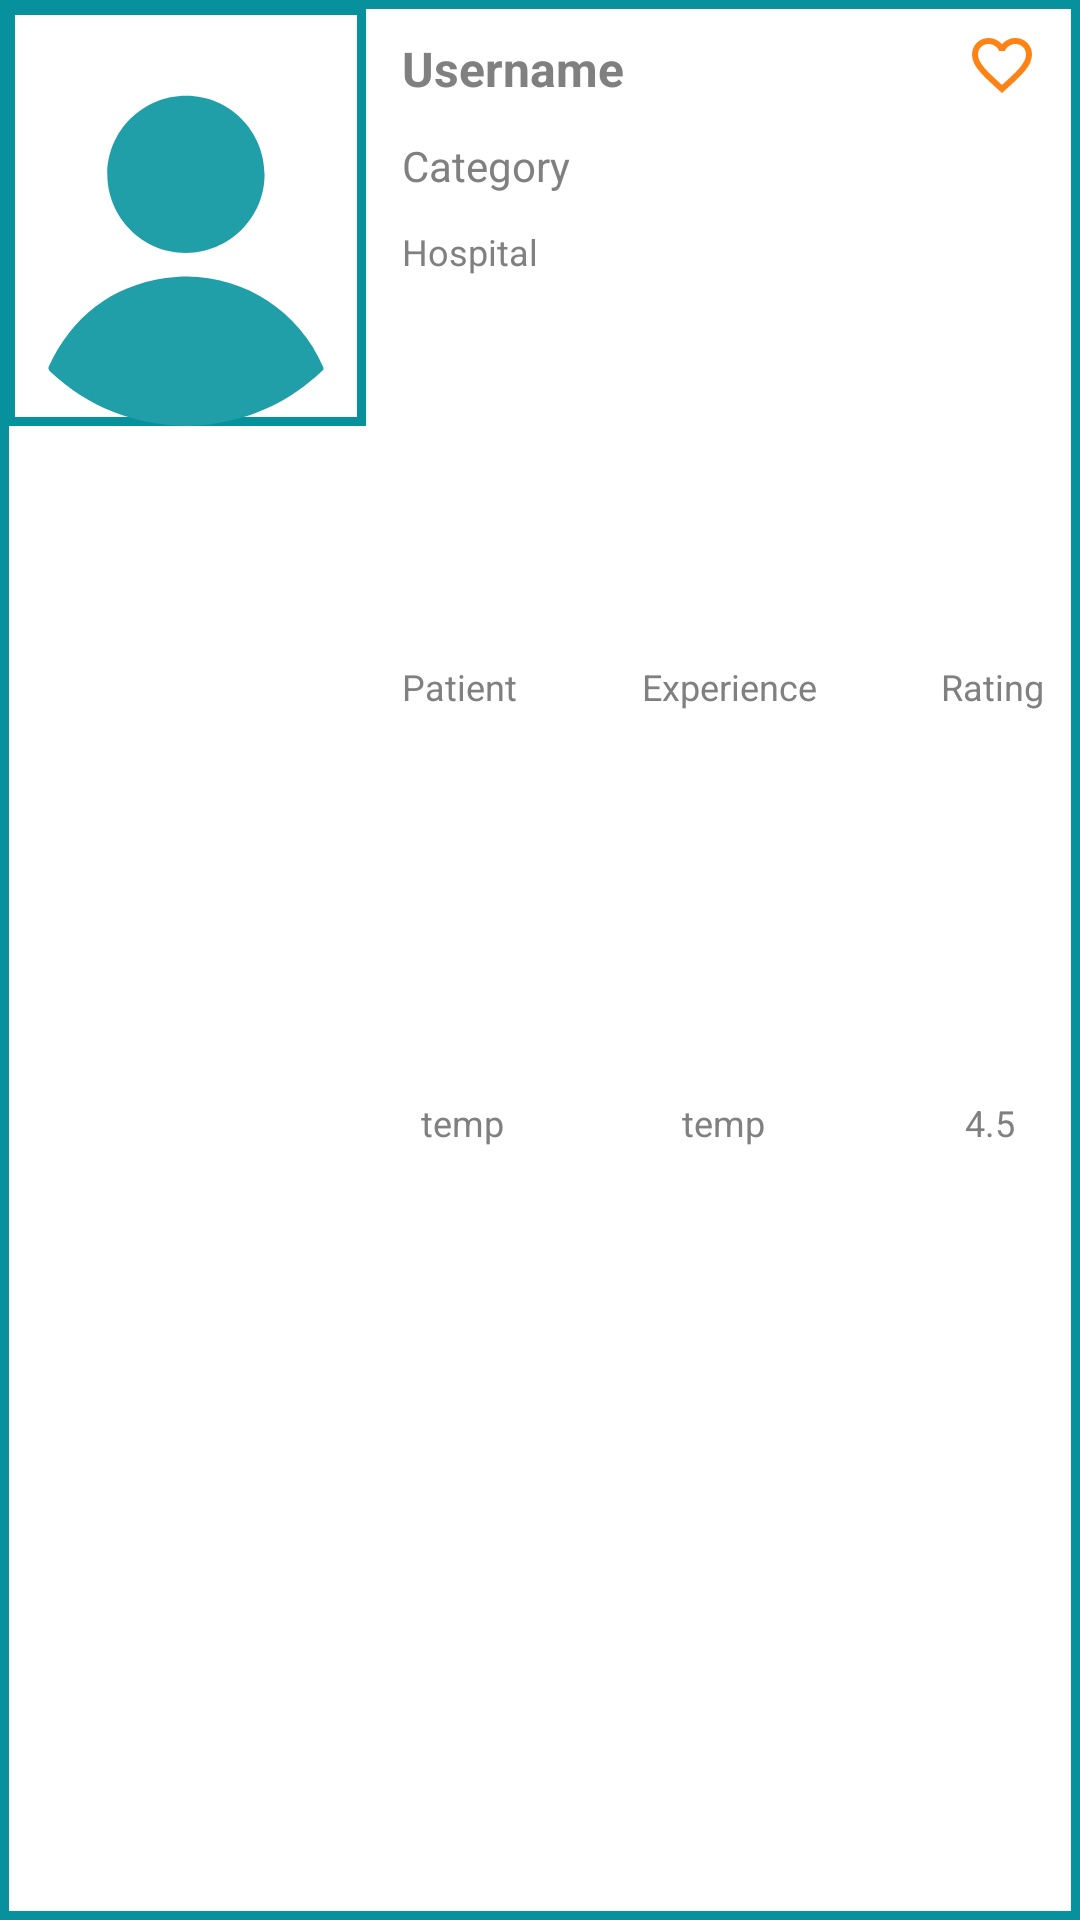

Icons on this 1080 × 1920 Android screen, each with its box as {"left": x1, "top": y1, "right": x2, "bottom": y2}:
favorite border: {"left": 972, "top": 38, "right": 1032, "bottom": 93}
